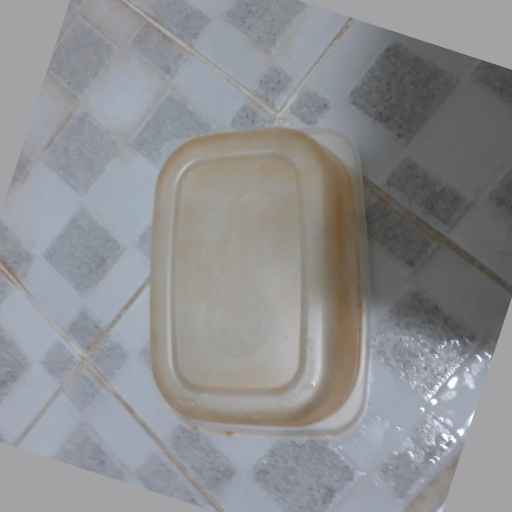Plastic_4: (149, 127, 370, 439)
